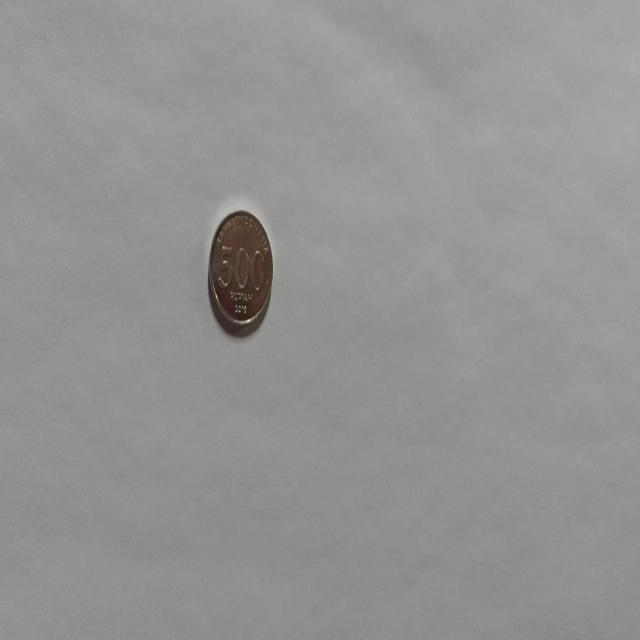lima ratus rupiah: (206, 208, 274, 336)
